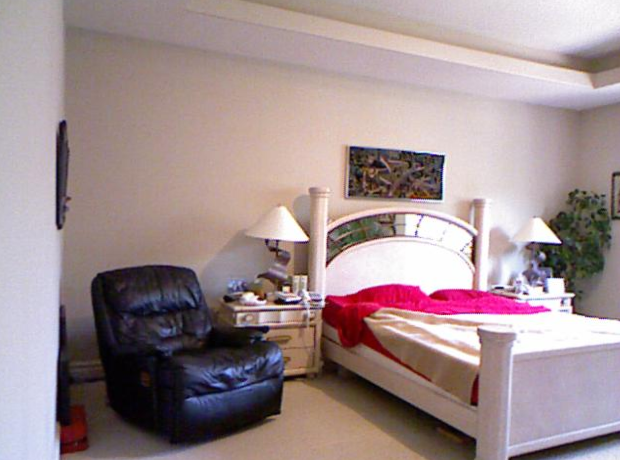cabinet: (282, 300, 320, 376)
couch: (91, 265, 282, 418)
door: (282, 329, 312, 347), (283, 350, 313, 368)
